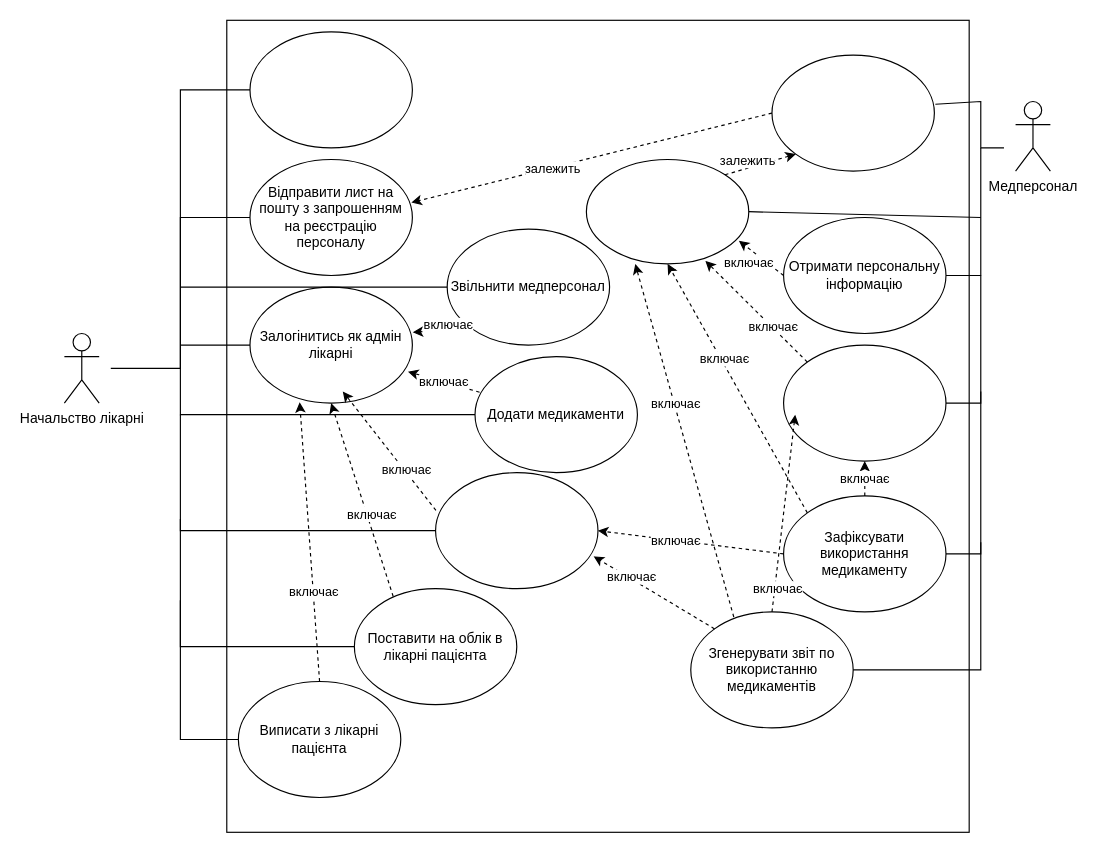
The diagram is 1097 pixels wide and 853 high, and some of its shapes have lost their labels. Here are the shapes that lost their labels. From the top down, the centre of each, then its label:
At point (330, 89): "Зареєструвати лікарню".
At point (852, 112): "Реєстрація".
At point (667, 211): "Телеграм реєстрація і ідентифікація медперсоналу".
At point (864, 402): "Отримати список пацієнтів".
At point (516, 530): "Отримати список медикаментів".
